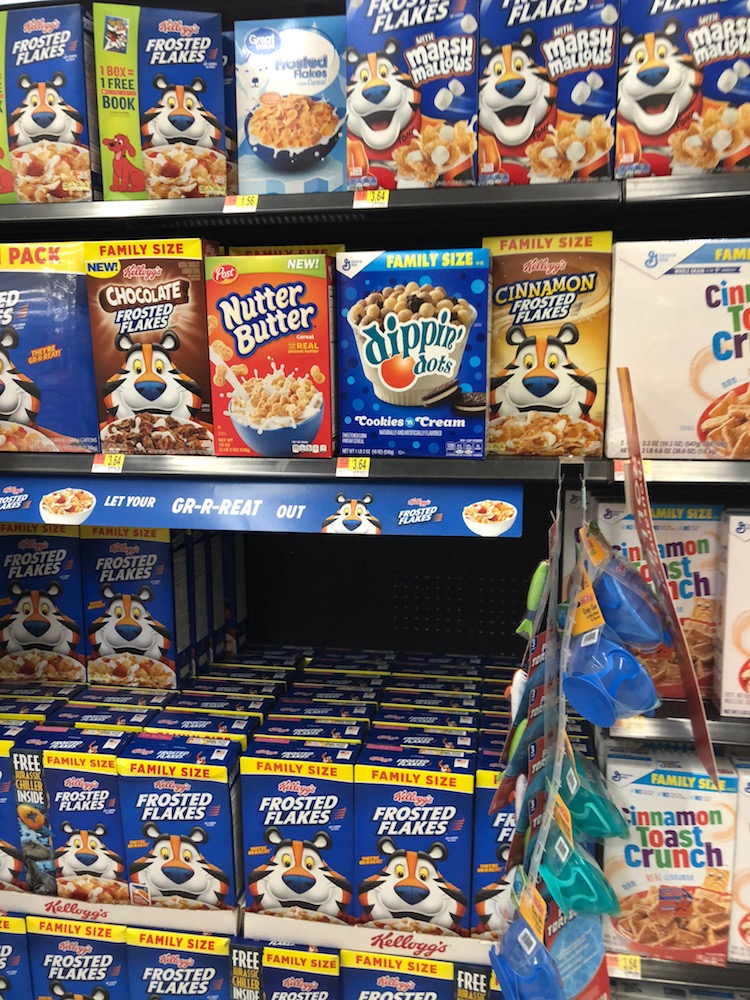Dippin Dots Cookies & Cream -568929378: (327, 254, 484, 457)
Nutter Butter-565717511: (194, 265, 338, 461)
